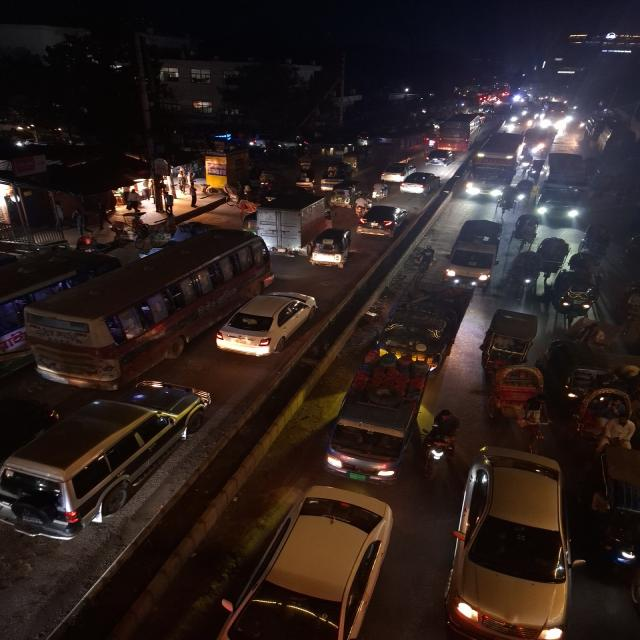bus: (18, 226, 274, 384), (0, 246, 109, 379), (534, 150, 595, 227), (465, 131, 528, 200), (435, 113, 483, 151)
car: (0, 391, 213, 542), (210, 482, 401, 639), (449, 443, 577, 640), (214, 288, 321, 359), (355, 203, 410, 235), (399, 171, 442, 199), (379, 160, 417, 183), (422, 148, 455, 167)
cng: (555, 270, 599, 325), (307, 227, 356, 270), (560, 363, 610, 402)
motorcycle: (420, 407, 462, 470), (370, 180, 390, 202), (352, 193, 372, 213)
pedestrian: (158, 191, 177, 215)
pickup_van: (322, 357, 432, 484), (443, 217, 506, 294)
rickshaw: (371, 290, 462, 375), (489, 362, 552, 440), (570, 386, 640, 454), (478, 305, 538, 373), (537, 234, 569, 286), (506, 250, 540, 298), (510, 212, 540, 249), (578, 223, 611, 255), (622, 281, 640, 332), (330, 180, 360, 206), (369, 180, 390, 202)
truck: (592, 444, 640, 575), (243, 190, 334, 253)
